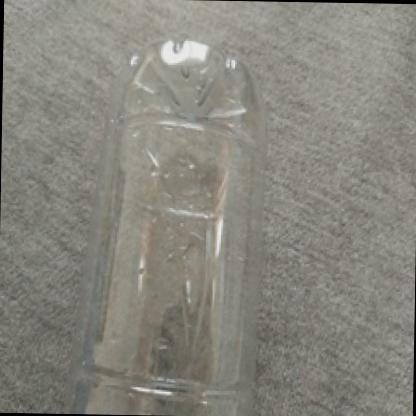plastic_bottles: (66, 30, 281, 416)
